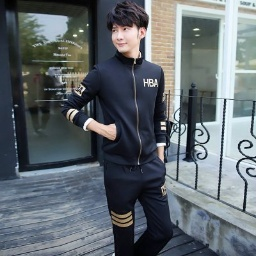face: (105, 1, 154, 59)
